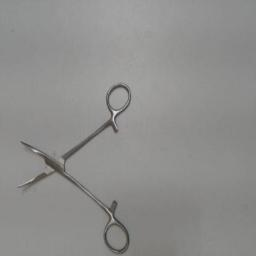Crile Artery Forceps: (11, 76, 139, 256)
